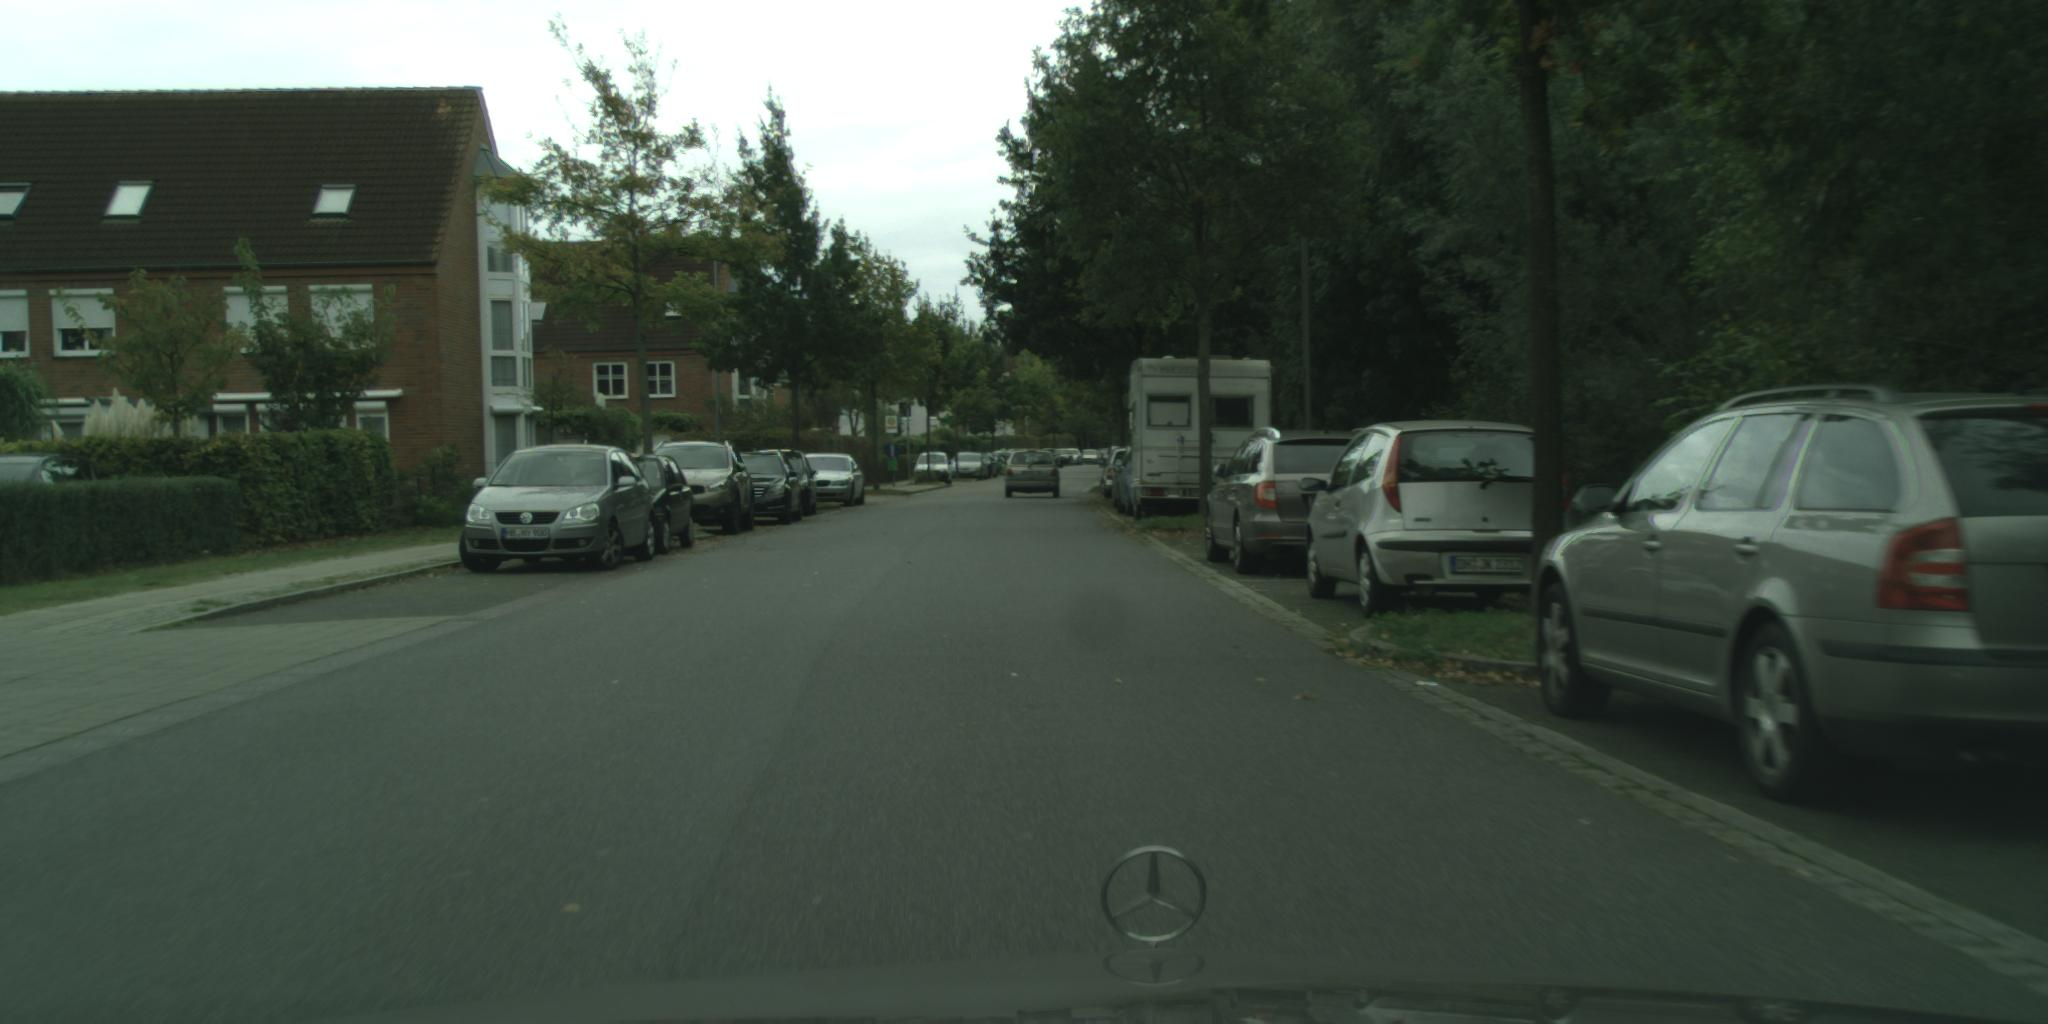car: (1531, 384, 2048, 805), (1300, 421, 1537, 622), (458, 444, 660, 576), (1206, 426, 1369, 577), (650, 440, 758, 536), (624, 453, 695, 558), (741, 449, 806, 526), (751, 451, 819, 519), (805, 453, 867, 508), (1, 452, 98, 485), (1004, 449, 1062, 499), (914, 452, 952, 486)
